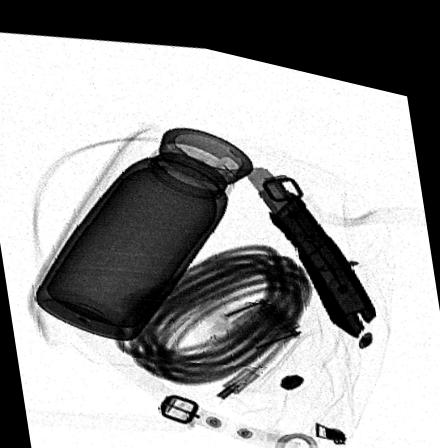Knife: (240, 154, 378, 323)
